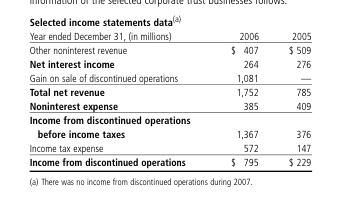table: (28, 29, 310, 167)
table column: (28, 29, 209, 167), (209, 29, 272, 167), (272, 29, 310, 167)
table column header: (28, 29, 310, 42)
table row: (28, 112, 310, 140), (28, 42, 310, 56), (28, 56, 310, 70), (28, 70, 310, 84), (28, 84, 310, 98), (28, 98, 310, 112), (28, 140, 310, 154), (28, 29, 310, 42), (28, 154, 310, 167)
